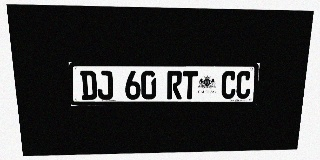0: (141, 71, 156, 100)
6: (125, 71, 141, 100)
C: (235, 71, 252, 99), (221, 71, 237, 99)
D: (80, 71, 97, 100)
J: (96, 71, 113, 100)
R: (167, 71, 182, 99)
T: (182, 71, 198, 99)
